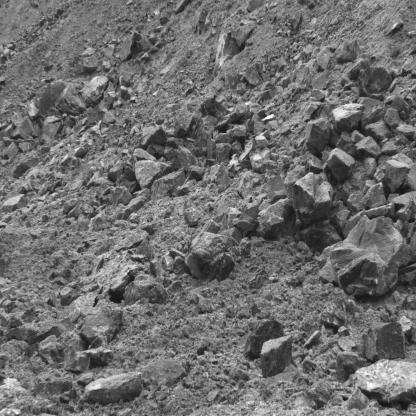stone: (315, 215, 407, 298), (354, 359, 416, 408), (186, 232, 238, 279), (81, 372, 142, 404), (362, 321, 405, 361), (81, 303, 122, 344), (219, 208, 261, 245), (260, 335, 297, 377), (258, 197, 296, 237), (245, 319, 285, 357), (299, 219, 342, 254), (150, 168, 191, 201), (358, 59, 391, 97), (199, 253, 234, 287), (134, 160, 171, 190), (319, 288, 347, 326), (304, 118, 332, 155), (55, 82, 87, 113), (332, 103, 365, 133), (327, 148, 355, 182), (79, 75, 108, 106), (385, 159, 411, 193), (138, 122, 167, 149), (359, 182, 386, 208), (334, 37, 362, 62), (256, 214, 283, 237), (355, 136, 382, 159), (364, 119, 391, 142), (37, 342, 65, 363), (11, 115, 33, 140), (173, 110, 194, 136), (249, 147, 270, 172), (65, 353, 92, 372), (365, 202, 395, 219), (148, 283, 170, 304), (111, 186, 132, 208), (216, 162, 231, 191), (214, 142, 231, 165), (243, 65, 262, 85), (132, 148, 157, 163), (149, 256, 166, 278), (227, 124, 247, 142), (171, 256, 190, 274), (311, 69, 328, 89), (384, 108, 402, 126), (397, 121, 416, 138), (187, 164, 205, 181), (382, 141, 403, 155), (363, 157, 377, 177), (26, 101, 39, 121), (63, 198, 78, 215), (96, 182, 111, 199), (184, 211, 198, 226), (175, 185, 192, 197), (272, 189, 286, 203), (255, 135, 268, 149), (351, 130, 365, 142), (277, 55, 286, 73), (102, 111, 115, 123), (32, 123, 42, 138), (254, 123, 266, 135), (386, 193, 399, 204), (338, 326, 350, 337), (130, 213, 139, 224), (41, 214, 51, 222)
